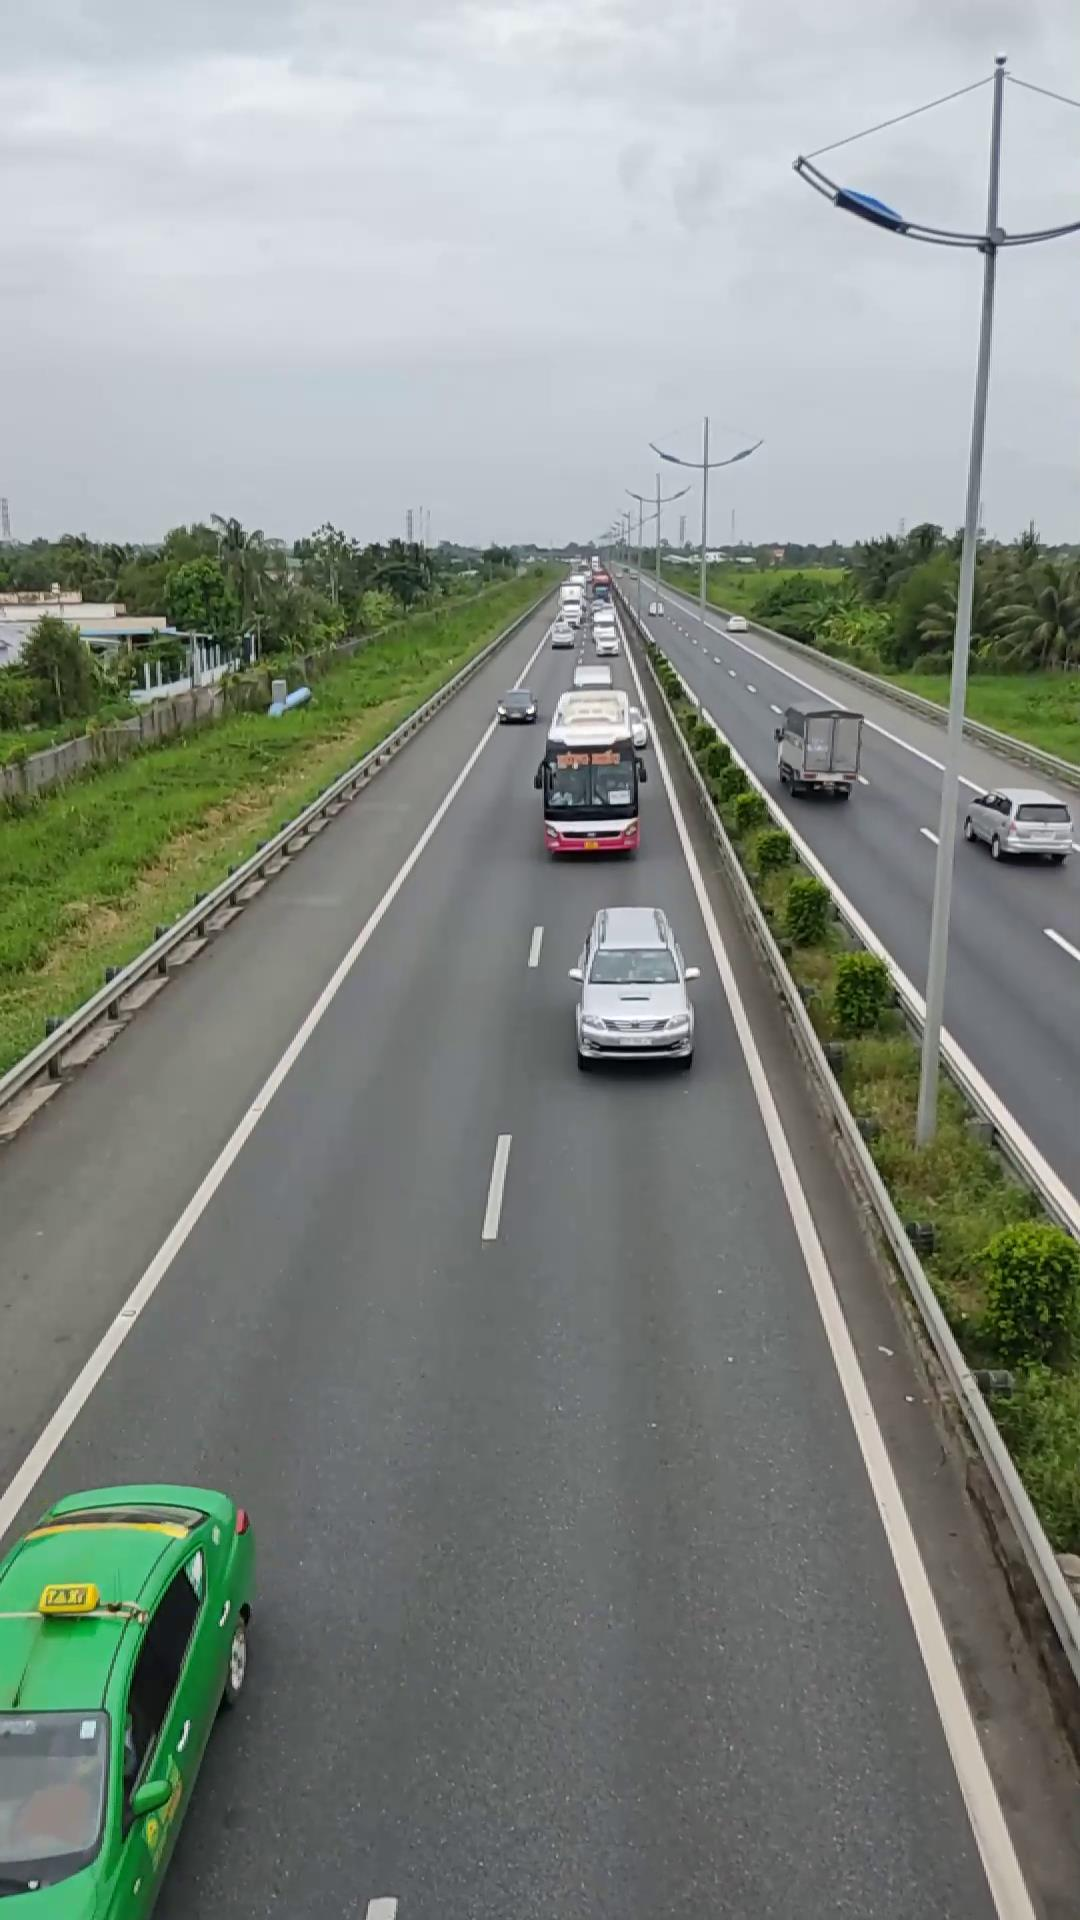bus: (534, 691, 644, 855)
car: (0, 1481, 257, 1919), (570, 905, 696, 1068), (959, 782, 1075, 862)
truck: (771, 698, 865, 798)
